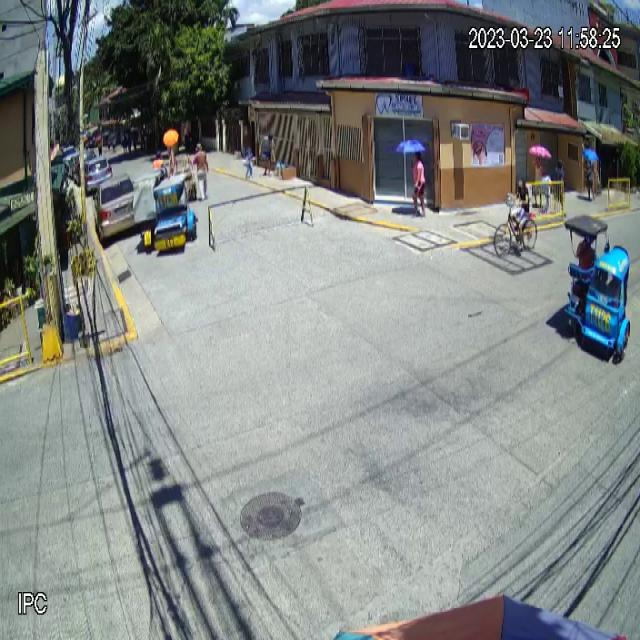Car: (94, 173, 142, 243)
Tricycle: (564, 214, 631, 363), (133, 169, 198, 252)
